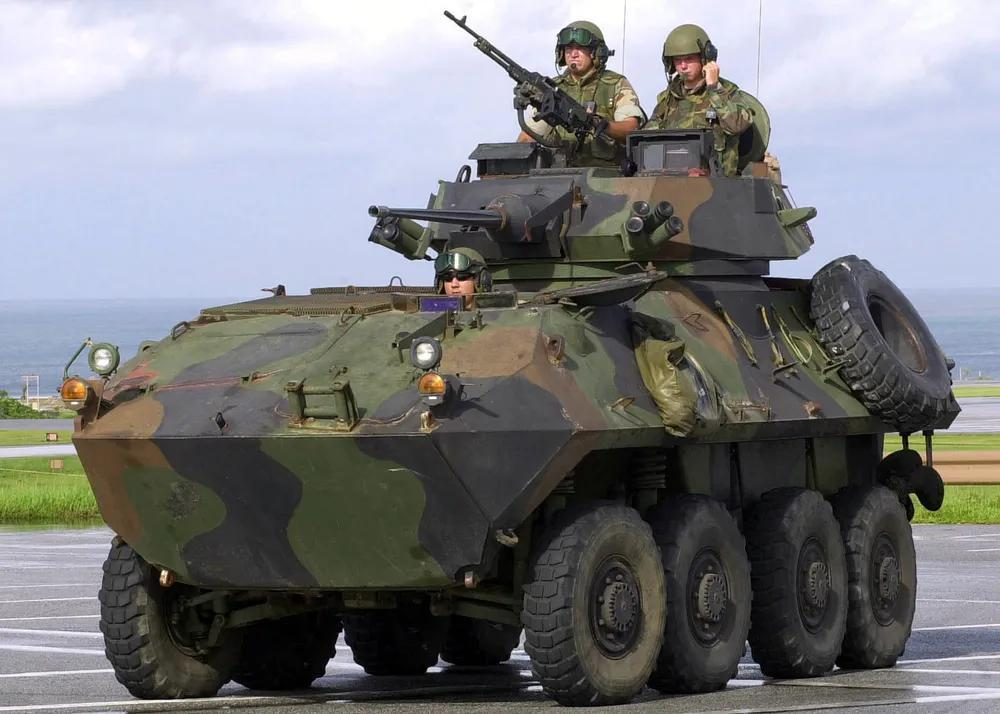MIL_IFV: (60, 83, 956, 701)
